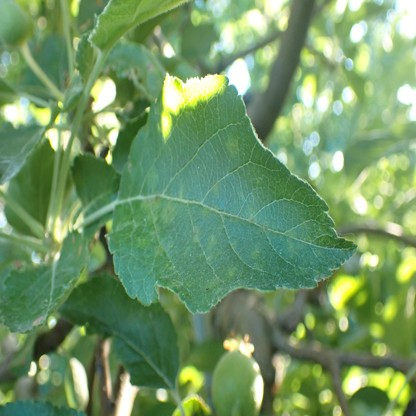scab: (141, 196, 162, 222), (161, 203, 178, 226), (226, 133, 239, 156), (154, 241, 165, 255), (250, 246, 261, 260), (213, 177, 220, 196), (248, 212, 256, 226), (206, 234, 216, 245), (178, 183, 184, 201), (229, 264, 237, 277), (193, 224, 199, 241)
